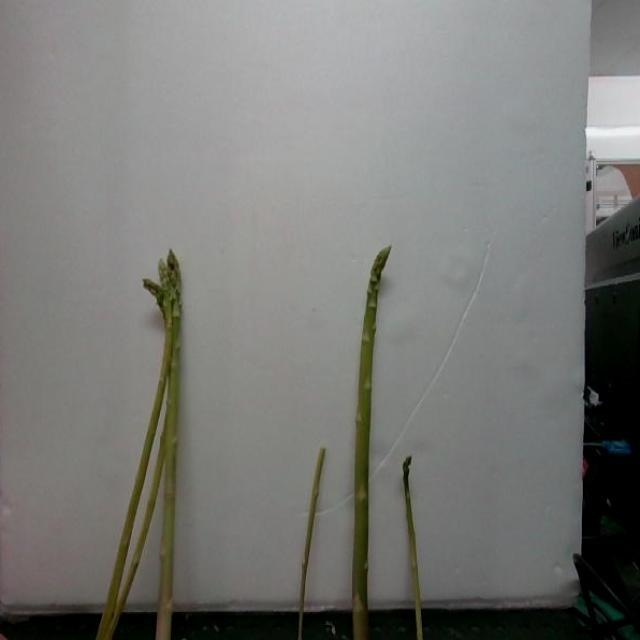aspargus: (353, 248, 392, 640), (153, 253, 184, 640)
